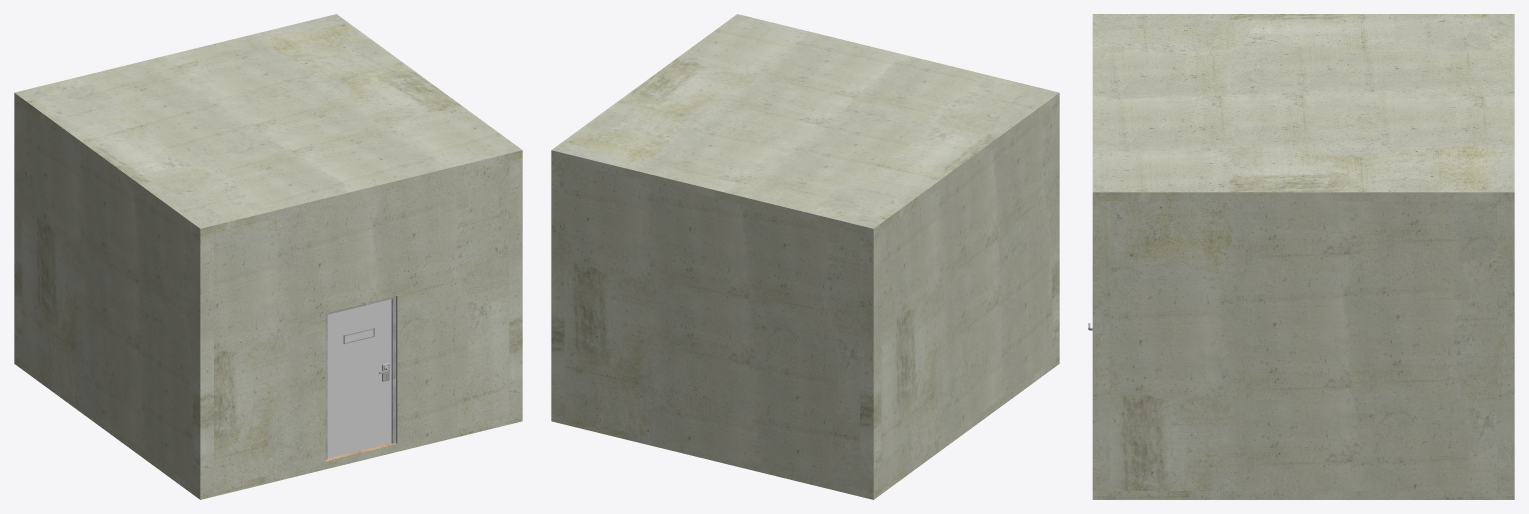
The model's file is Exit.fbx.
3 views of the same model, side by side, from view 1: azimuth 30°, elevation 25°; view 2: azimuth 150°, elevation 25°; view 3: azimuth 270°, elevation 25° (orthographic). The views are drawn at different scales.
Visible parts, largest first — view 1: Wall.065, Wall.061, Wall.064, Cube.011, Wall.068, Wall.070, Wall.069, Wall.066, Door.005; view 2: Wall.062, Wall.061, Wall.064, Wall.066, Wall.070, Wall.067, Wall.068; view 3: Wall.063, Wall.061, Wall.069, Wall.067, Wall.070.
Part boxes in pixels (bbox=[...]): Wall.065: bbox=[214, 161, 509, 488]; Wall.061: bbox=[14, 14, 522, 236]; Wall.064: bbox=[22, 106, 192, 485]; Cube.011: bbox=[327, 299, 391, 458]; Wall.068: bbox=[192, 231, 213, 491]; Wall.070: bbox=[14, 356, 522, 499]; Wall.069: bbox=[509, 158, 522, 416]; Wall.066: bbox=[14, 101, 21, 360]; Door.005: bbox=[325, 296, 395, 459]; Wall.062: bbox=[564, 161, 859, 488]; Wall.061: bbox=[551, 14, 1059, 236]; Wall.064: bbox=[881, 106, 1051, 485]; Wall.066: bbox=[860, 231, 881, 491]; Wall.070: bbox=[551, 356, 1059, 499]; Wall.067: bbox=[551, 158, 564, 416]; Wall.068: bbox=[1052, 101, 1059, 360]; Wall.063: bbox=[1110, 201, 1496, 490]; Wall.061: bbox=[1092, 14, 1514, 201]; Wall.069: bbox=[1092, 201, 1110, 490]; Wall.067: bbox=[1497, 201, 1514, 490]; Wall.070: bbox=[1092, 491, 1514, 499].
Size of the model in its own units: 102 by 82.29 by 103.
Materials: 7 (4 with a texture image).
